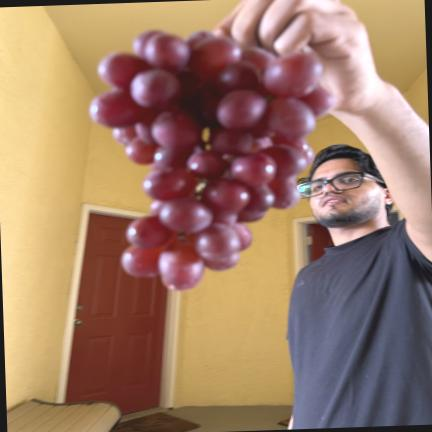grape_cluster: (90, 31, 332, 290)
